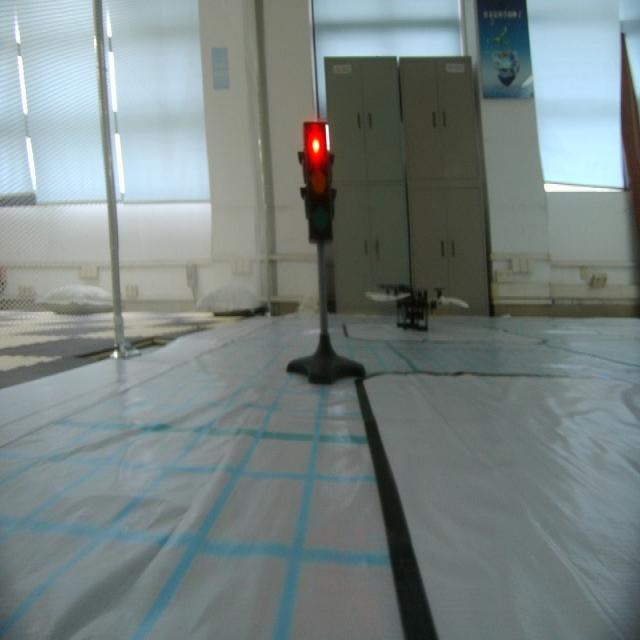red: (297, 118, 337, 250)
